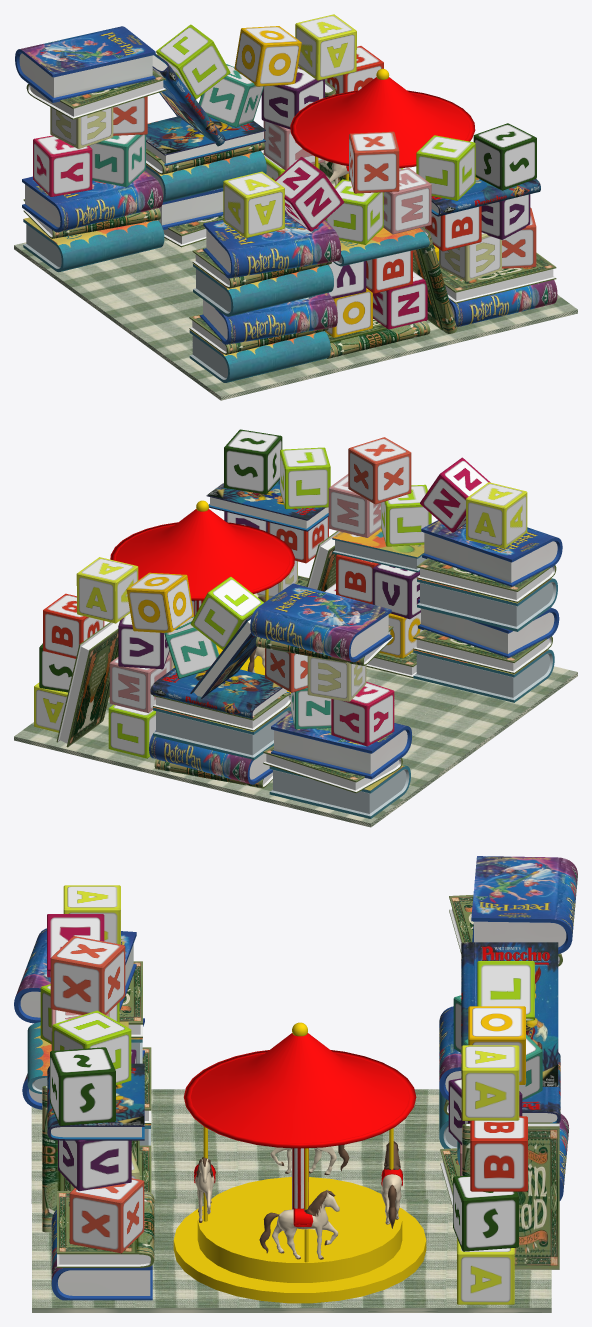
File: ATLIKARINCAPARKUR3son.fbx
3 views of the same model, one above another, from view 1: azimuth 30°, elevation 25°; view 2: azimuth 150°, elevation 25°; view 3: azimuth 270°, elevation 25° (orthographic). The views are drawn at different scales.
Parts seen in each view (by area): view 1: Cube, Cylinder.009, Circle.025, Circle.016, Circle.002, Circle, Circle.008, Circle.006, Circle.014, Circle.010, Cube.044, Cube.012 (+40 smaller); view 2: Cube, Cylinder.009, Circle.025, Circle.016, Circle.002, Circle.023, Circle.014, Circle.006, Circle, Circle.010, Circle.021, Cube.047 (+38 smaller); view 3: Cylinder.009, Cube.001, Cube, Circle.025, Circle.023, Circle.005, Cube.047, Cube.044, Cube.032, Cube.038, Cube.026, Cube.011 (+23 smaller).
Boxes of the visible parts, box(x1,y1,x2,y2) form: Cube: box(14, 238, 400, 400); Cylinder.009: box(290, 68, 475, 260); Circle.025: box(15, 26, 155, 102); Circle.016: box(203, 211, 341, 278); Circle.002: box(22, 171, 163, 232); Circle: box(23, 217, 164, 272); Circle.008: box(200, 293, 337, 344); Circle.006: box(189, 330, 330, 382); Circle.014: box(193, 263, 333, 316); Circle.010: box(146, 116, 265, 166); Cube.044: box(473, 123, 536, 190); Cube.012: box(223, 171, 284, 238); Cube: box(193, 666, 577, 827); Cylinder.009: box(109, 500, 294, 697); Circle.025: box(250, 583, 391, 662); Circle.016: box(421, 520, 562, 586); Circle.002: box(271, 712, 411, 779); Circle.023: box(56, 621, 119, 747); Circle.014: box(417, 578, 557, 631); Circle.006: box(413, 649, 554, 702); Circle: box(269, 765, 410, 818); Circle.010: box(150, 667, 289, 718); Circle.021: box(153, 706, 290, 760); Cube.047: box(348, 437, 411, 504); Cylinder.009: box(173, 1022, 426, 1303); Cube.001: box(32, 1198, 551, 1312); Cube: box(31, 1089, 449, 1203); Circle.025: box(471, 856, 577, 953); Circle.023: box(462, 1123, 559, 1269); Circle.005: box(461, 942, 558, 1086); Cube.047: box(50, 936, 125, 1014); Cube.044: box(50, 1047, 115, 1125); Cube.032: box(69, 1178, 144, 1253); Cube.038: box(461, 1045, 519, 1120); Cube.026: box(470, 1116, 527, 1191); Cube.011: box(453, 1175, 518, 1251).
Bounding box in the file's own units: 9961 × 5320 × 10853.
